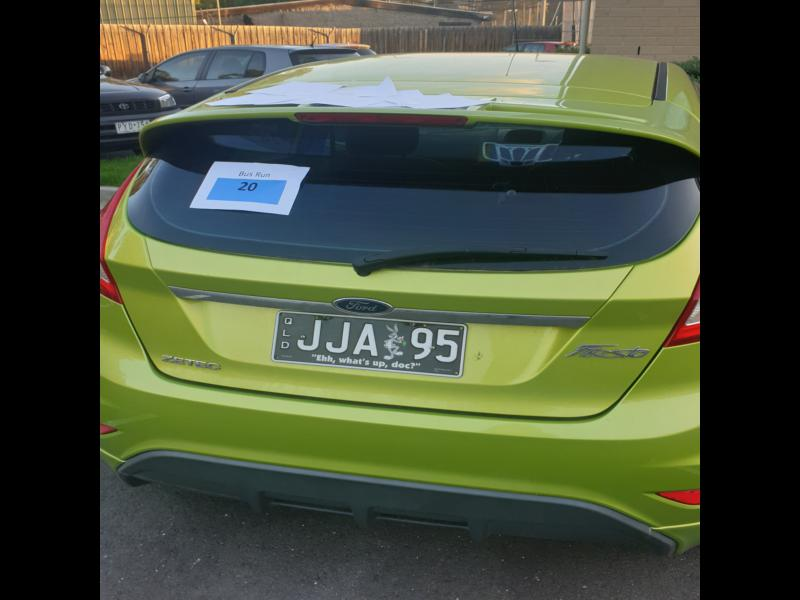BusRun: (213, 177, 283, 204)
PlateNo: (280, 310, 464, 373)
